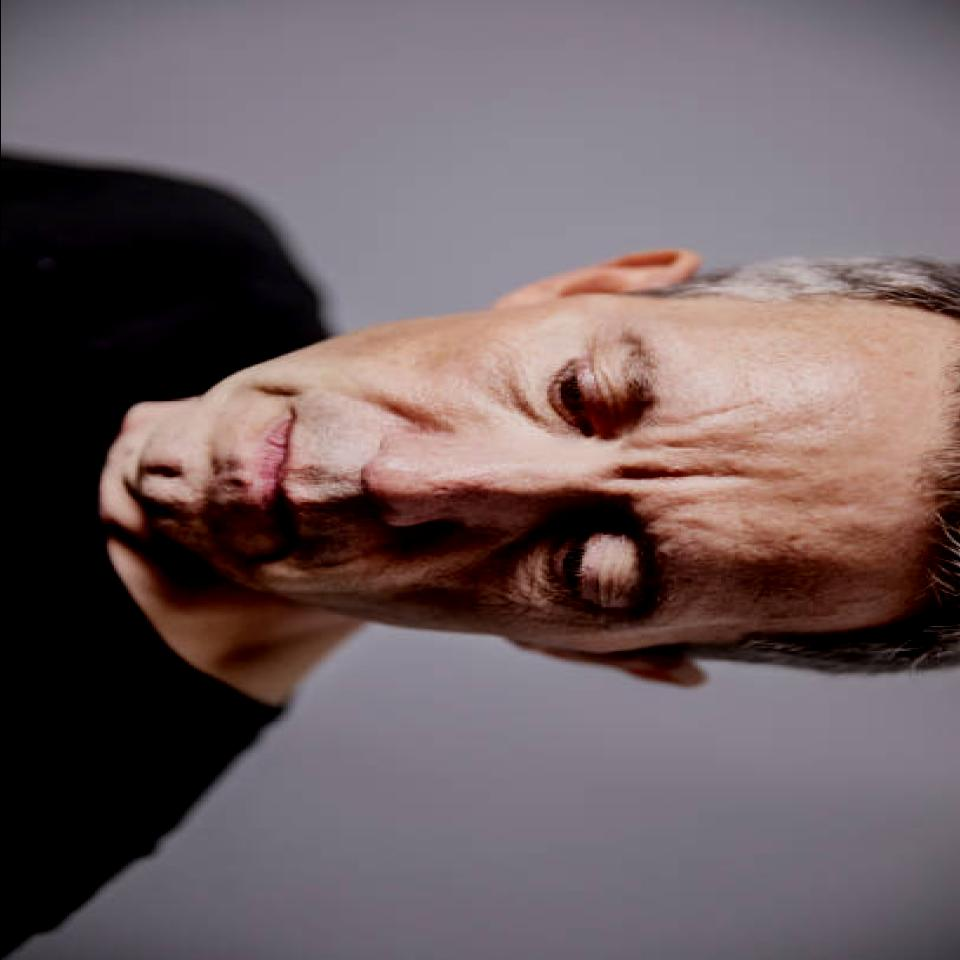Sadness: (193, 306, 699, 638)
